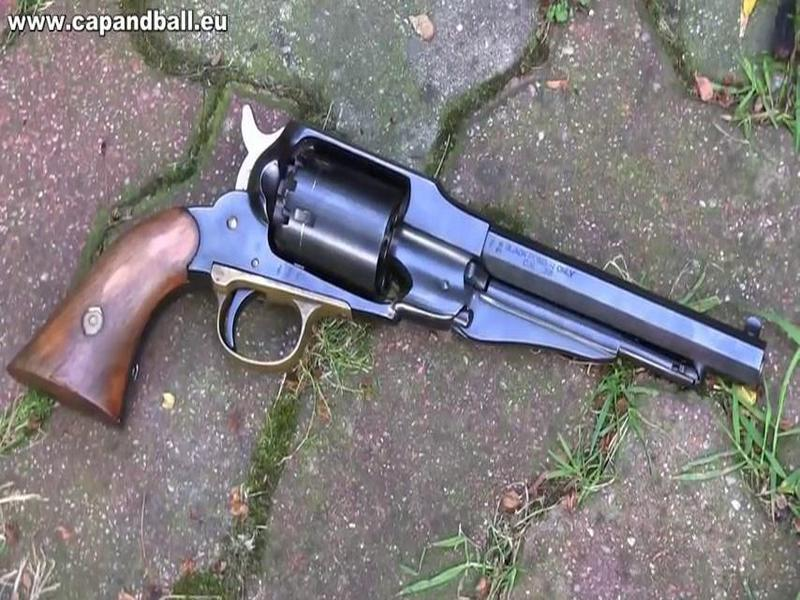Revolver: (73, 116, 800, 470)
